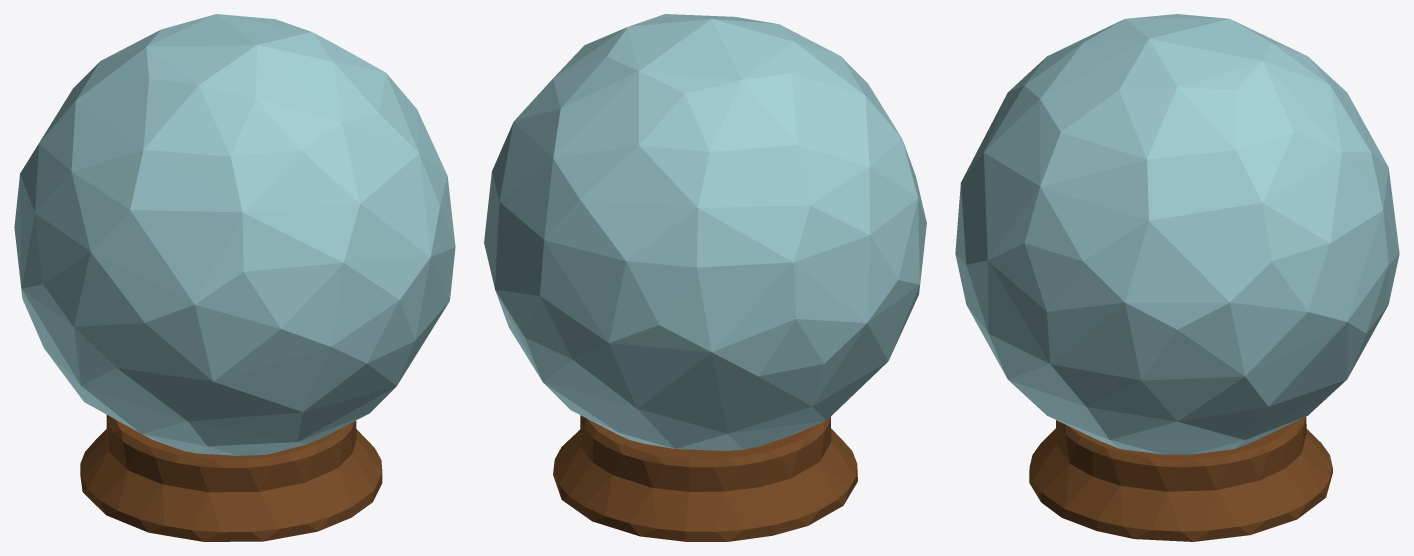
Rendered from snowball.fbx.
3 renders of one model, left to right at view 1: azimuth 30°, elevation 25°; view 2: azimuth 150°, elevation 25°; view 3: azimuth 270°, elevation 25°, orthographic.
Parts seen in each view (by area): view 1: Icosphere, Cylinder; view 2: Icosphere, Cylinder; view 3: Icosphere, Cylinder.
Part boxes in pixels (bbox=[...]): Icosphere: bbox=[14, 14, 455, 455]; Cylinder: bbox=[80, 415, 382, 541]; Icosphere: bbox=[484, 14, 926, 450]; Cylinder: bbox=[553, 415, 857, 541]; Icosphere: bbox=[955, 14, 1399, 454]; Cylinder: bbox=[1029, 417, 1332, 541].
Size of the model in its own units: 755 by 832 by 755.
